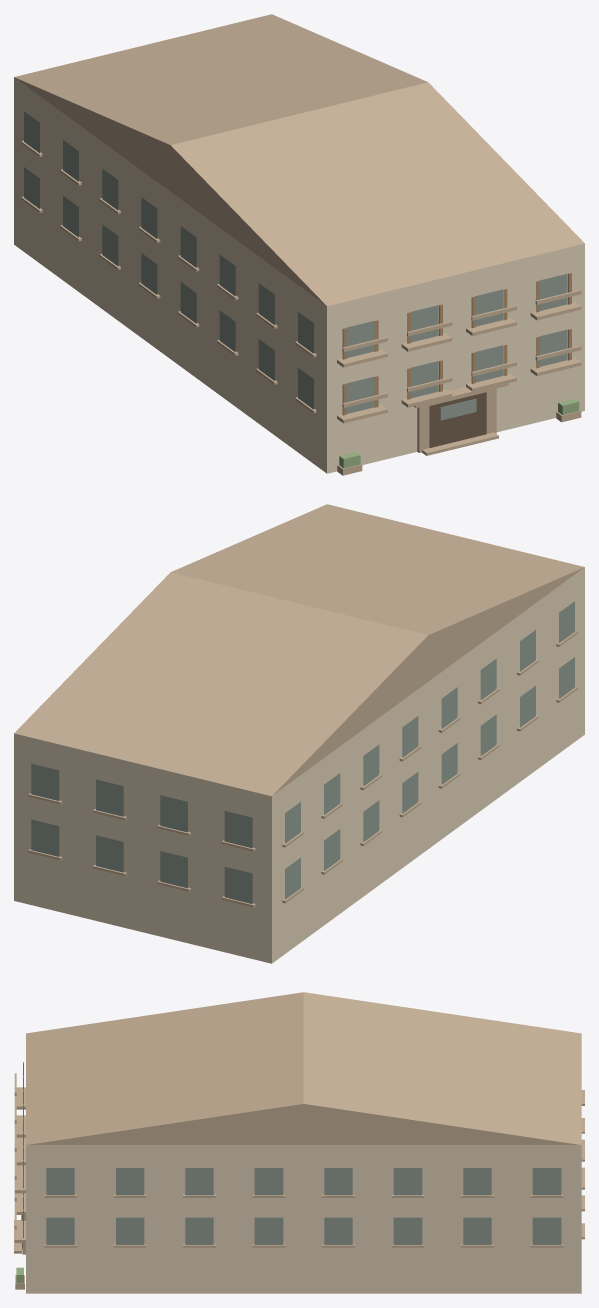
Rendered from residential_2x4_a.glb.
The picture shows the model from 3 angles, top to bottom: view 1: azimuth 30°, elevation 25°; view 2: azimuth 150°, elevation 25°; view 3: azimuth 270°, elevation 25°; orthographic projection. The views are drawn at different scales.
Visible parts, largest first — view 1: residential_2x4_a_0; view 2: residential_2x4_a_0; view 3: residential_2x4_a_0.
Part boxes in pixels (x1=…): residential_2x4_a_0: x1=14, y1=14, x2=584, y2=475; residential_2x4_a_0: x1=14, y1=504, x2=584, y2=963; residential_2x4_a_0: x1=14, y1=992, x2=584, y2=1293.
Bounding box in the file's own units: 14.86 × 11.5 × 31.33.
